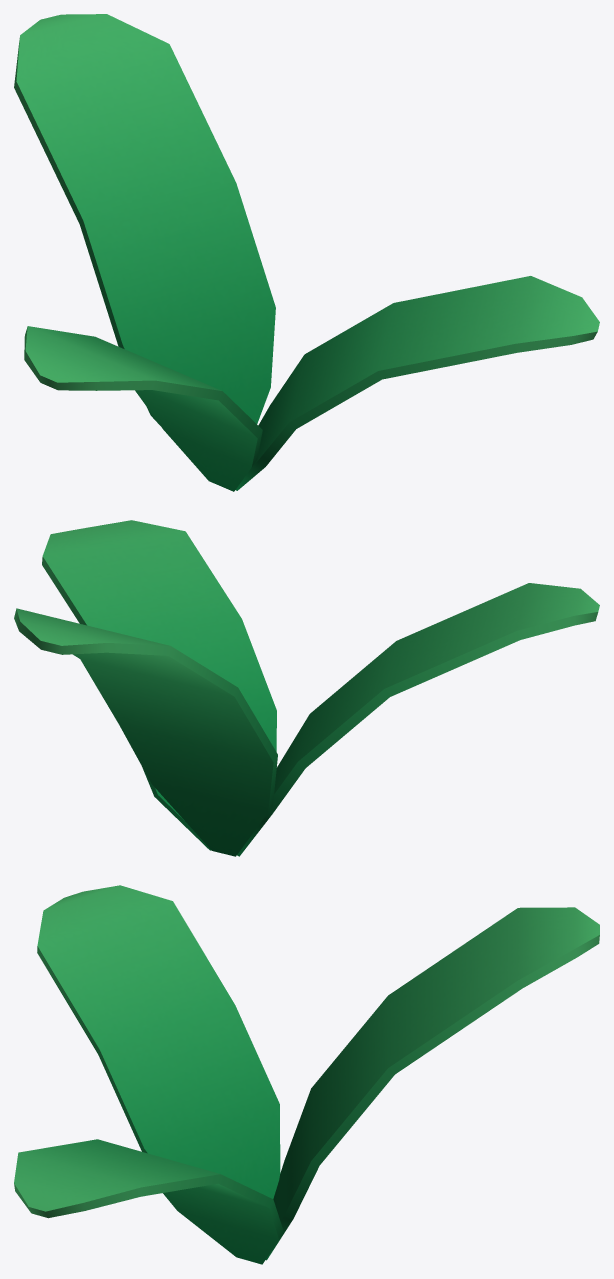
Rendered from Grass.fbx.
3 views of the same model, one above another, from view 1: azimuth 30°, elevation 25°; view 2: azimuth 150°, elevation 25°; view 3: azimuth 270°, elevation 25° (orthographic). The views are drawn at different scales.
Visible parts, largest first — view 1: Grass; view 2: Grass; view 3: Grass.
Part boxes in pixels (x1,y1,x2,y2): Grass: (14,14,599,491); Grass: (14,520,599,856); Grass: (14,885,599,1264).
Bounding box in the file's own units: 0.5907 × 0.3533 × 0.5679.
